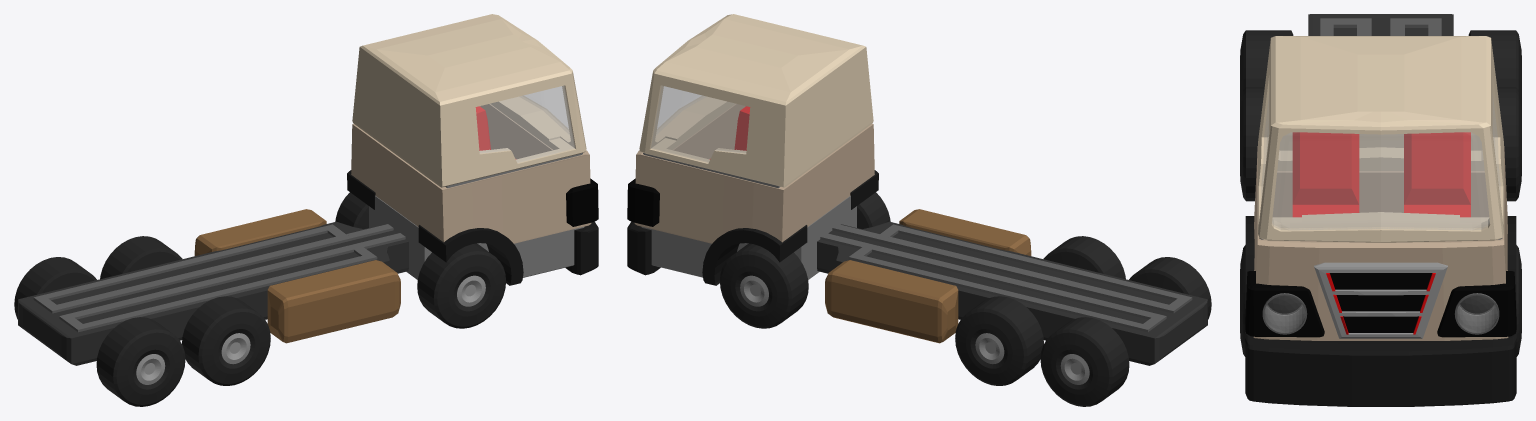
File: truck.glb
3 views of the same model, side by side, from view 1: azimuth 30°, elevation 25°; view 2: azimuth 150°, elevation 25°; view 3: azimuth 270°, elevation 25° (orthographic). The views are drawn at different scales.
Visible parts, largest first — view 1: Body.002, Body.001, Body.009, Body.028, Body.006, Wheel.002, Wheel.005, Body.012, Body.011, Wheel.001, Body.027, Body.015 (+12 smaller); view 2: Body.002, Body.001, Body.009, Body.027, Body.005, Wheel.003, Wheel.004, Body.011, Body.012, Wheel, Body.028, Body.010 (+12 smaller); view 3: Body.002, Body.004, Body.003, Body.001, Seat, Seat.001, Body.014, Body.013, Body.023, Wheel.005, Wheel.004, Body.009 (+17 smaller).
Boxes of the visible parts, box(x1,y1,x2,y2) form: Body.002: box(352, 14, 586, 187); Body.001: box(351, 104, 591, 243); Body.009: box(18, 221, 408, 365); Body.028: box(267, 260, 400, 343); Body.006: box(476, 86, 574, 162); Wheel.002: box(96, 317, 185, 406); Wheel.005: box(182, 296, 270, 385); Body.012: box(33, 224, 393, 313); Body.011: box(59, 233, 405, 332); Wheel.001: box(417, 243, 505, 328); Body.027: box(194, 209, 326, 255); Body.015: box(418, 225, 523, 285); Body.002: box(639, 14, 873, 187); Body.001: box(634, 104, 874, 243); Body.009: box(817, 221, 1207, 365); Body.027: box(825, 260, 958, 343); Body.005: box(651, 86, 749, 162); Wheel.003: box(1040, 317, 1129, 406); Wheel.004: box(955, 296, 1043, 385); Body.011: box(832, 224, 1192, 313); Body.012: box(820, 233, 1166, 332); Wheel: box(720, 243, 808, 328); Body.028: box(899, 209, 1031, 255); Body.010: box(702, 225, 807, 285); Body.002: box(1258, 36, 1503, 242); Body.004: box(1272, 132, 1489, 229); Body.003: box(1245, 332, 1516, 406); Body.001: box(1253, 146, 1508, 340); Seat: box(1292, 132, 1359, 217); Seat.001: box(1404, 132, 1470, 217); Body.014: box(1314, 262, 1447, 338); Body.013: box(1437, 271, 1516, 337); Body.023: box(1245, 271, 1324, 337); Wheel.005: box(1240, 87, 1264, 201); Wheel.004: box(1497, 87, 1521, 201); Body.009: box(1308, 14, 1453, 35).
Bounding box in the file's own units: 24.93 × 10.39 × 8.6.
